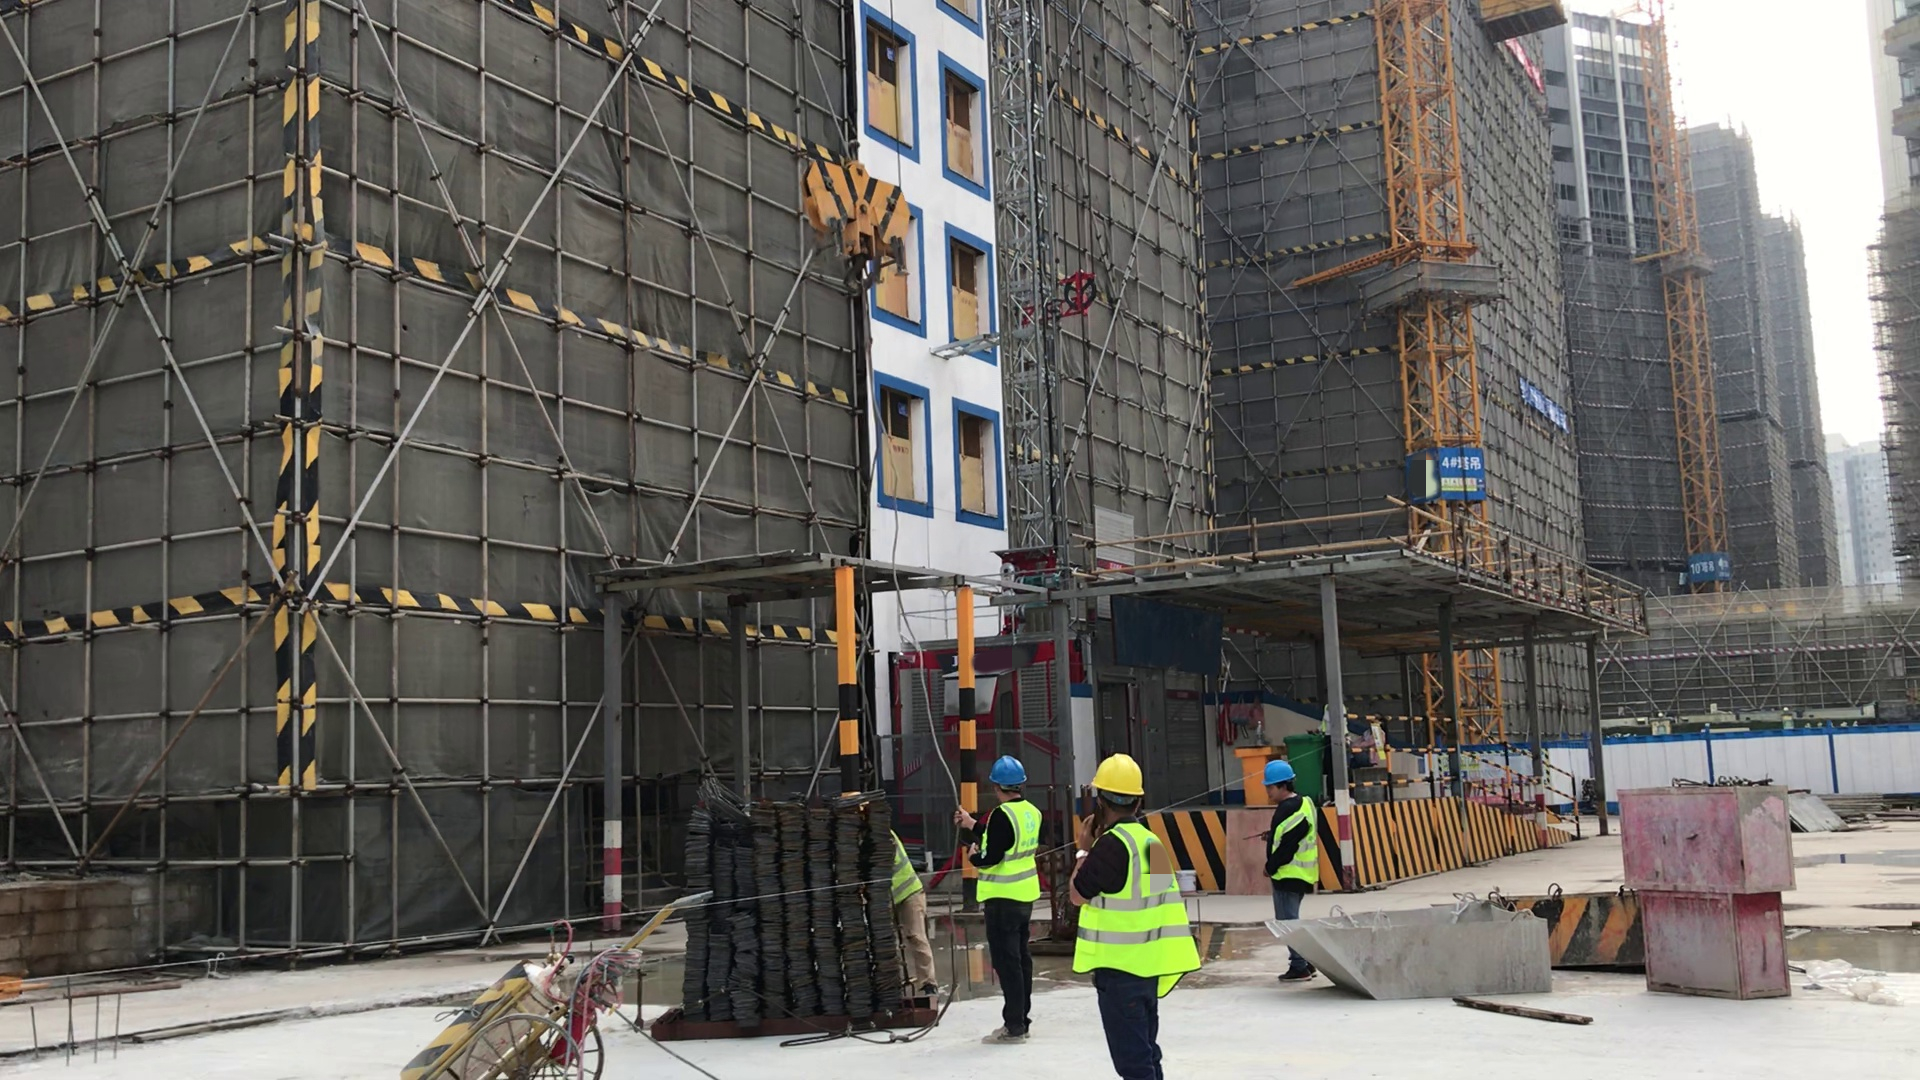helmet: (1087, 756, 1144, 793), (987, 756, 1026, 786), (1264, 759, 1297, 786)
person: (1070, 754, 1197, 1080), (945, 753, 1040, 1046), (856, 798, 936, 1019), (1260, 756, 1332, 985)
vest: (1075, 823, 1200, 982), (974, 799, 1039, 905), (1267, 795, 1322, 890), (887, 835, 922, 901)
